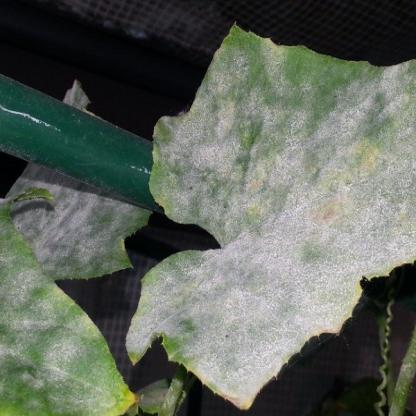squash powdery mildew leaf: (120, 24, 415, 403)
